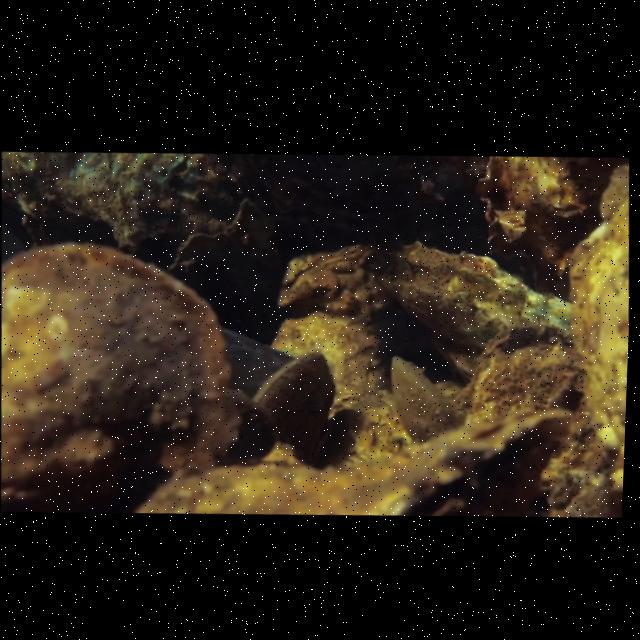Oyster-Closed: (143, 394, 583, 514), (354, 234, 583, 380), (249, 347, 340, 452), (389, 355, 464, 444)
Oyster-Indeterminate: (1, 234, 253, 506), (218, 155, 432, 241), (453, 324, 586, 416), (167, 198, 286, 283)
